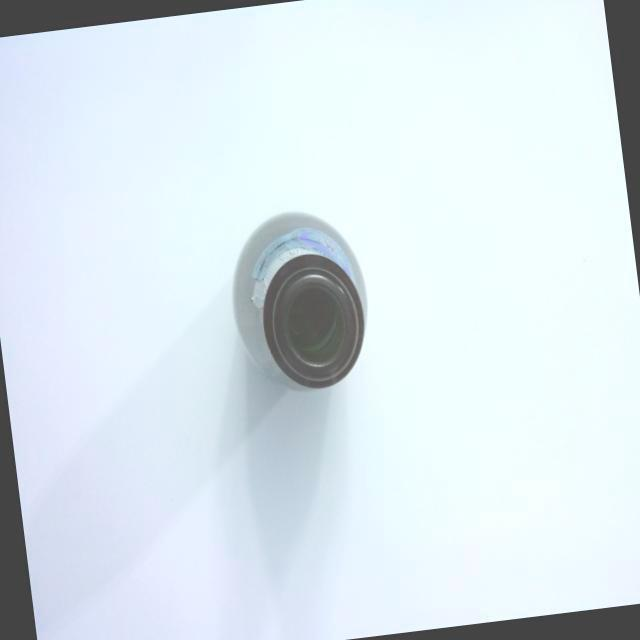glass: (214, 190, 387, 416)
